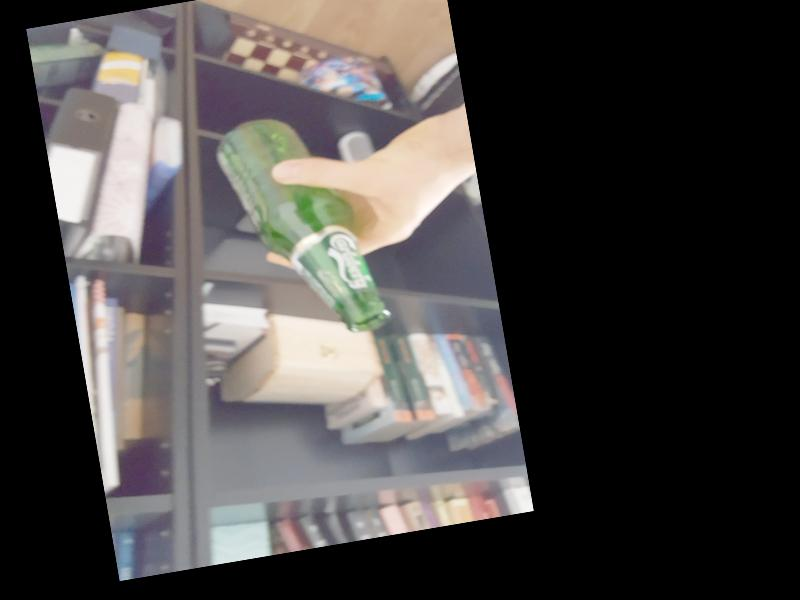Beer: (209, 104, 389, 350)
